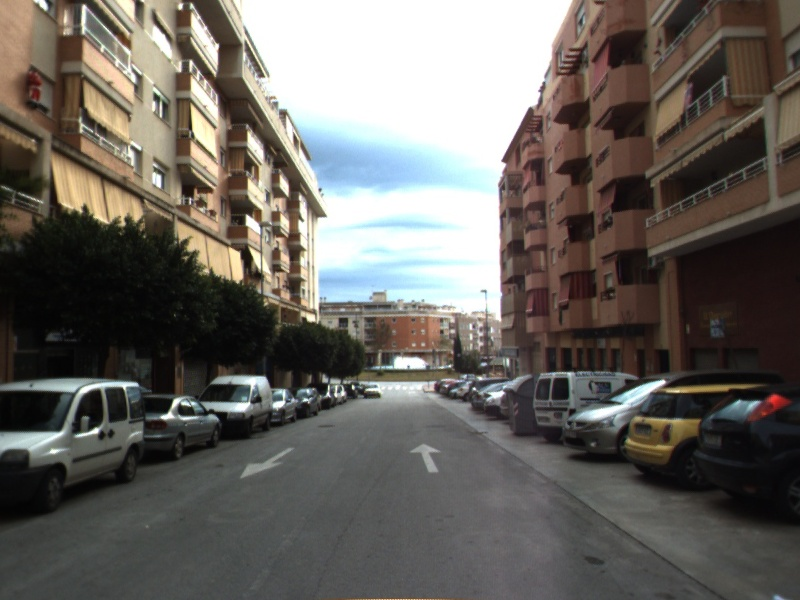STRAIGHT: (408, 441, 443, 474)
